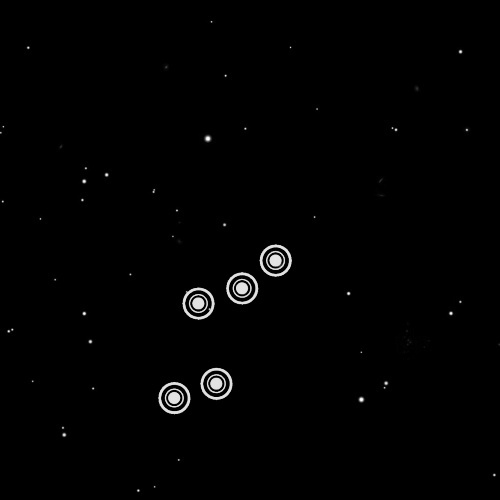lyra: (135, 227, 297, 429)
